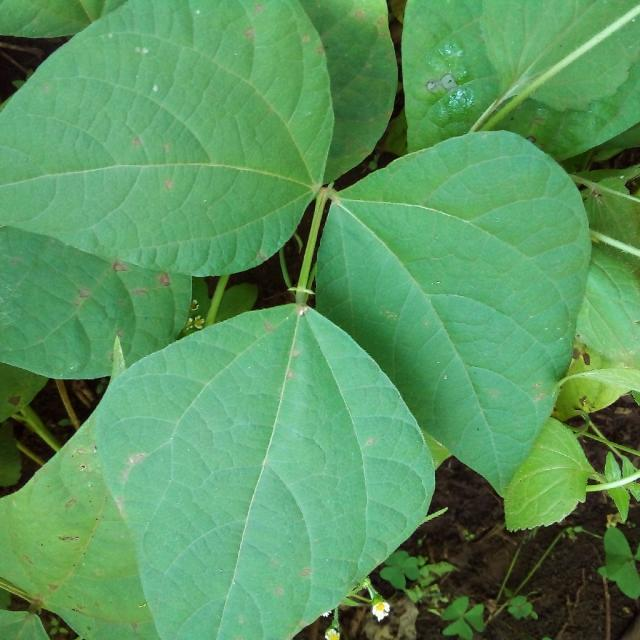embun tepung: (143, 370, 387, 595), (361, 192, 559, 396), (103, 22, 274, 140)
